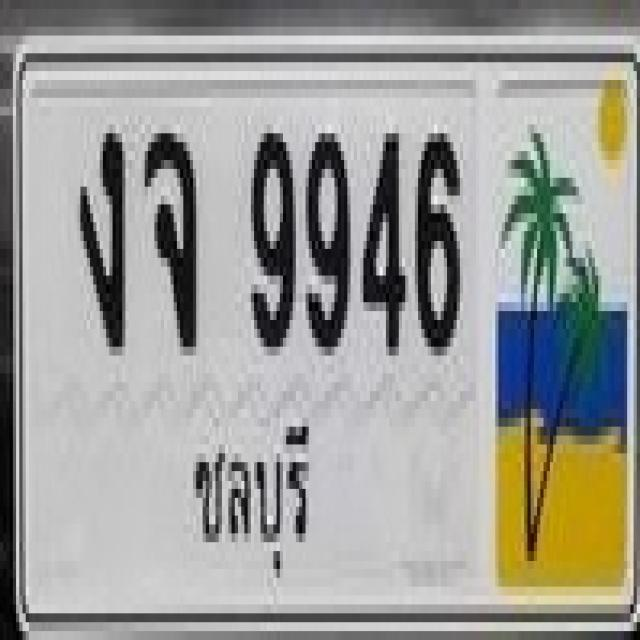license_plate: (12, 37, 640, 636)
